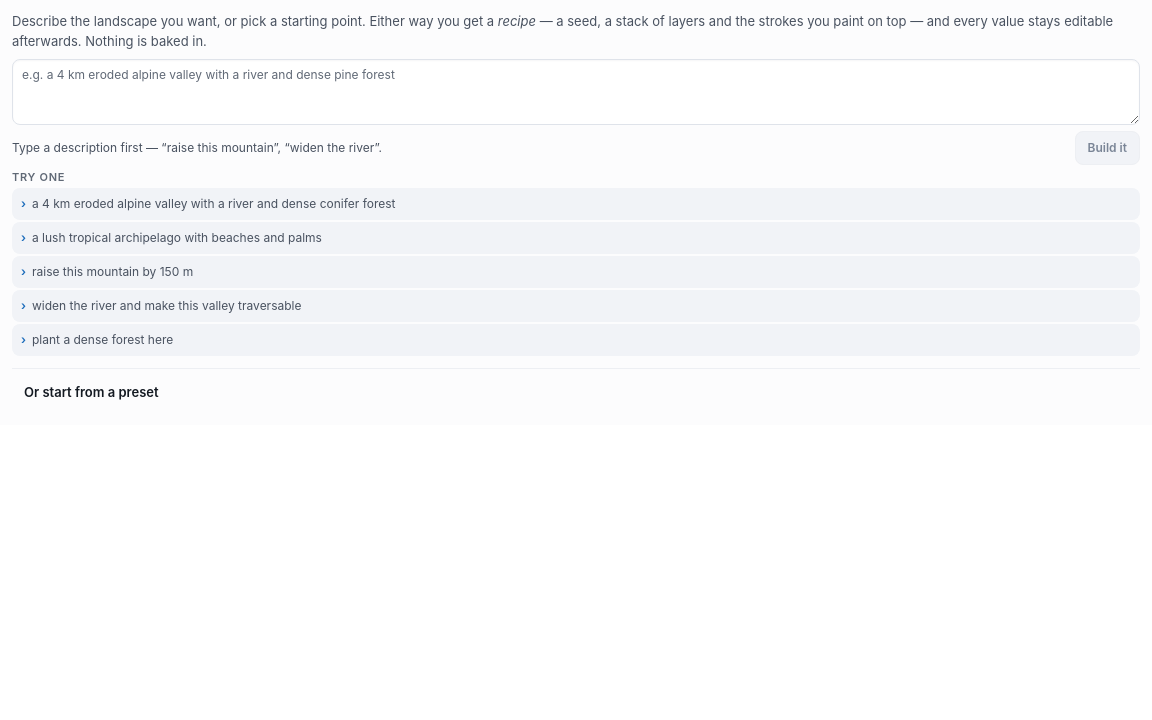
Test: a description is planned before it is built, including the words it could not use
This screenshot has width=1152, height=720.
Replace the text in the text box with test id "terrain-describe-text" with "a 4 km mountain range with a river and wizards": (576, 92) [12, 59, 1140, 125]
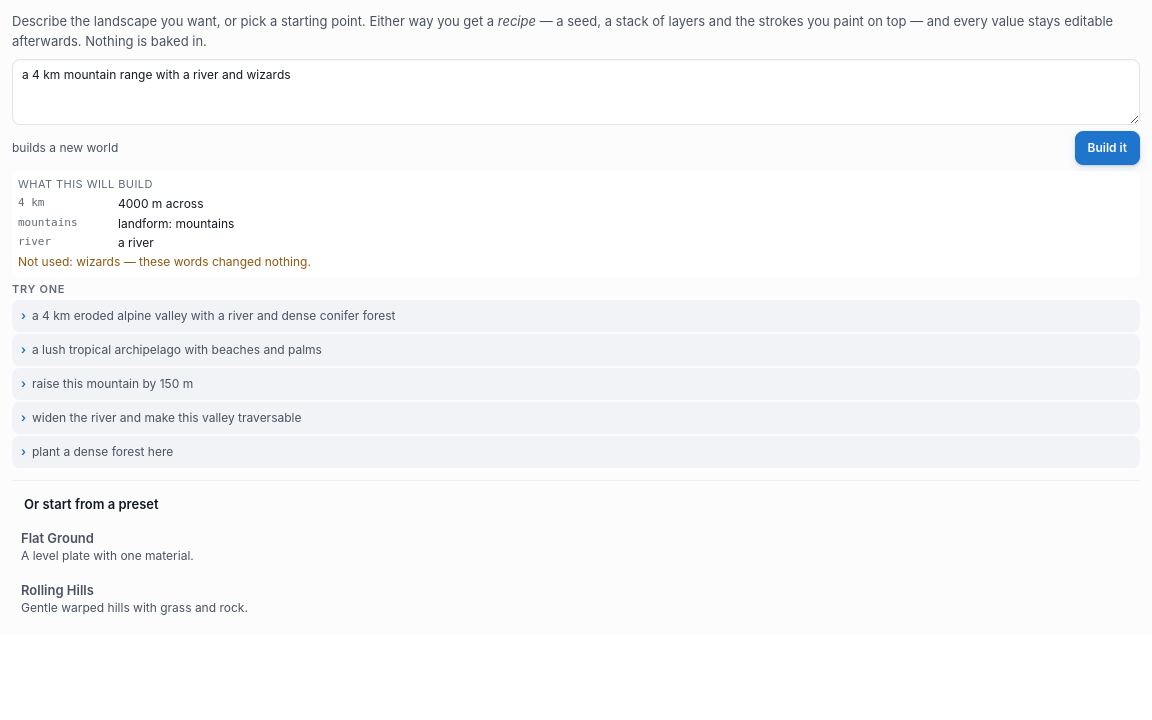
Expected: the element with test id "terrain-reading" shows "landform: mountains", [118, 216, 234, 230]
Expected: the element with test id "terrain-reading" shows "4000 m across", [118, 196, 204, 211]
Expected: the text with test id "terrain-reading-unused" shows "wizards", [76, 254, 120, 269]
Click the button with test id "terrain-describe-build": (1107, 148) [1075, 131, 1140, 165]
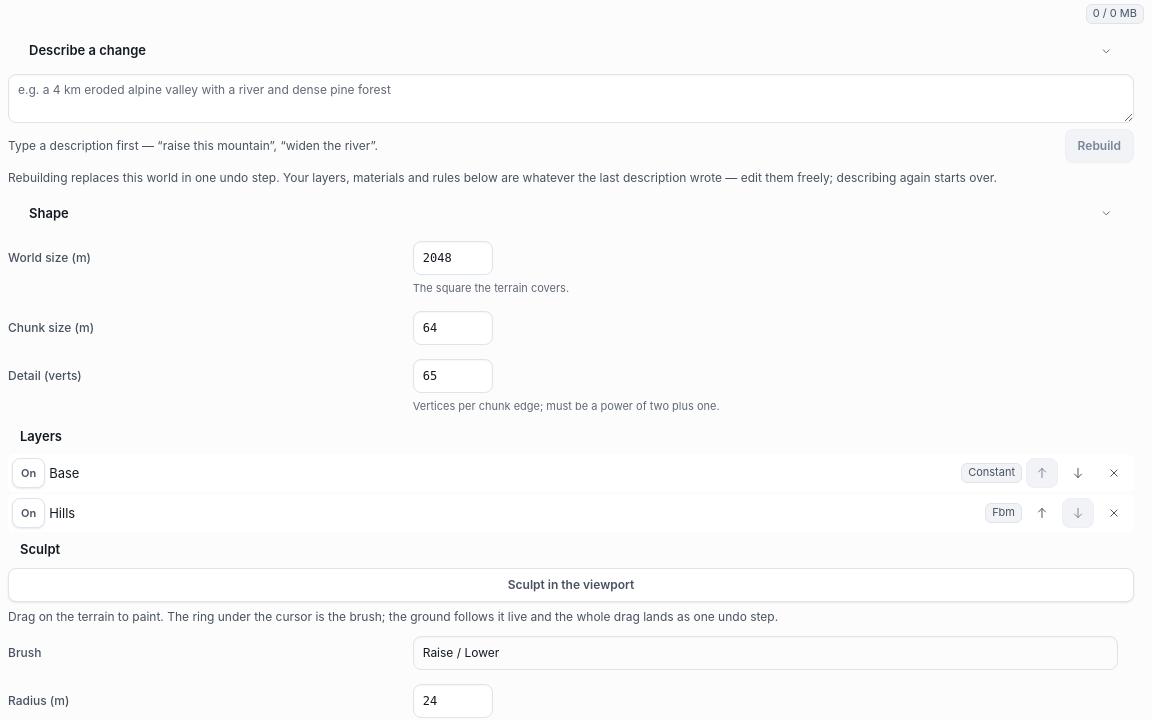
Expected: the element with test id "terrain-layers" is shown, [8, 454, 1134, 532]
